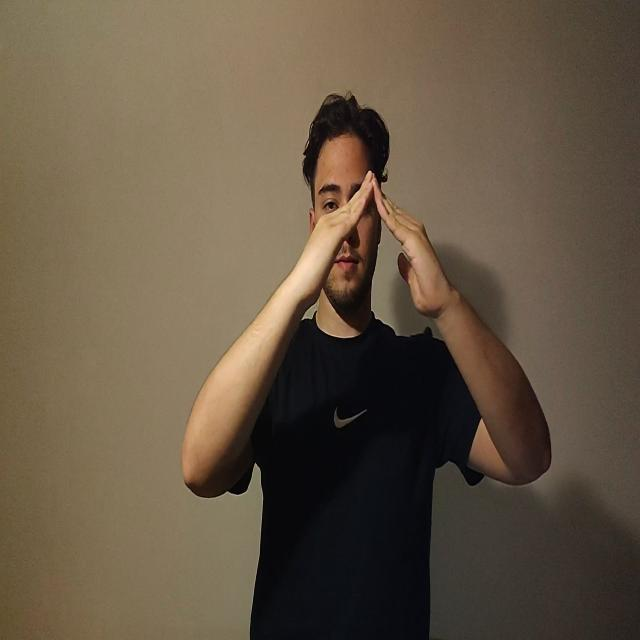house: (300, 166, 452, 322)
